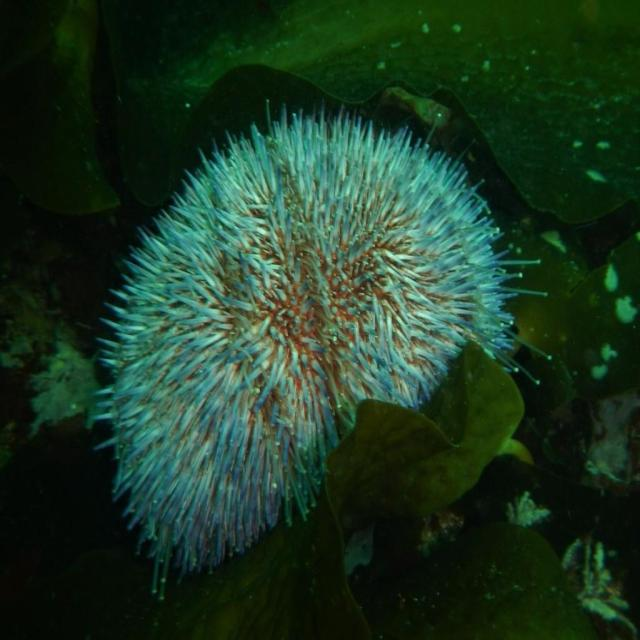Deniz Kestanesi: (92, 100, 552, 604)
